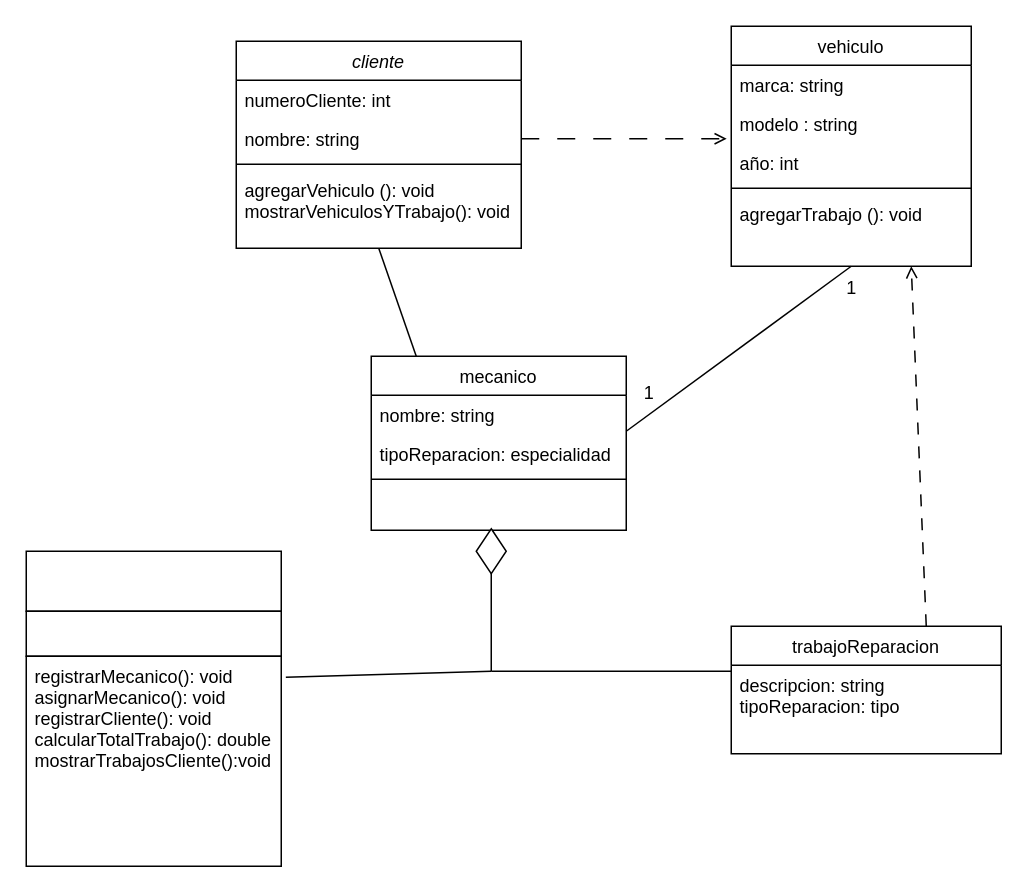
The diagram is 1028 pixels wide and 893 high, and some of its shapes have lost their labels. Here are the shapes that lost their labels. From the top down, the centre of each, then its label:
At pixel 153 580: "sistemaTaller".
At pixel 153 633: "clientes: list".
